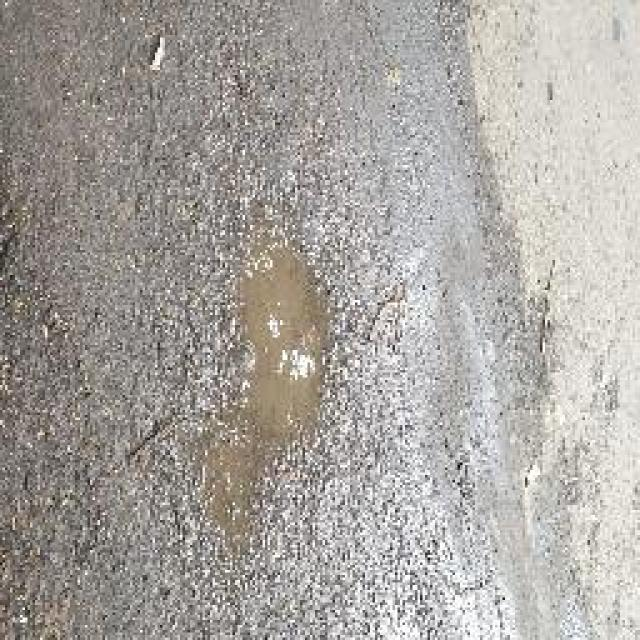puddle: (200, 236, 334, 545)
